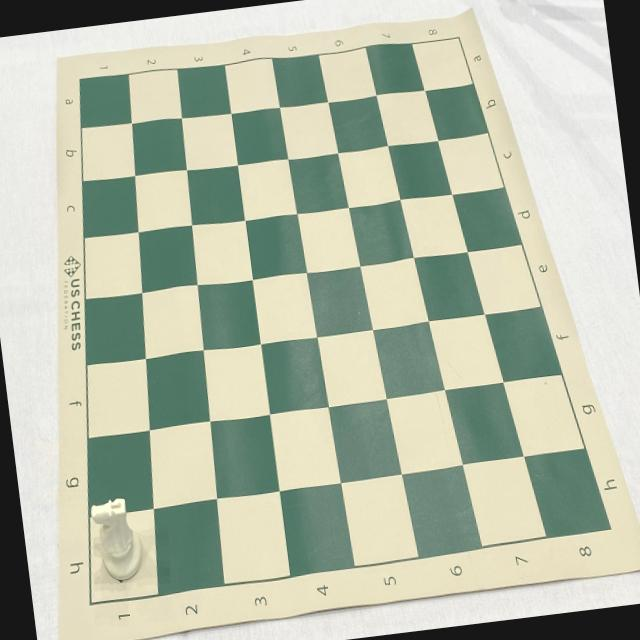white-knight: (89, 495, 148, 585)
